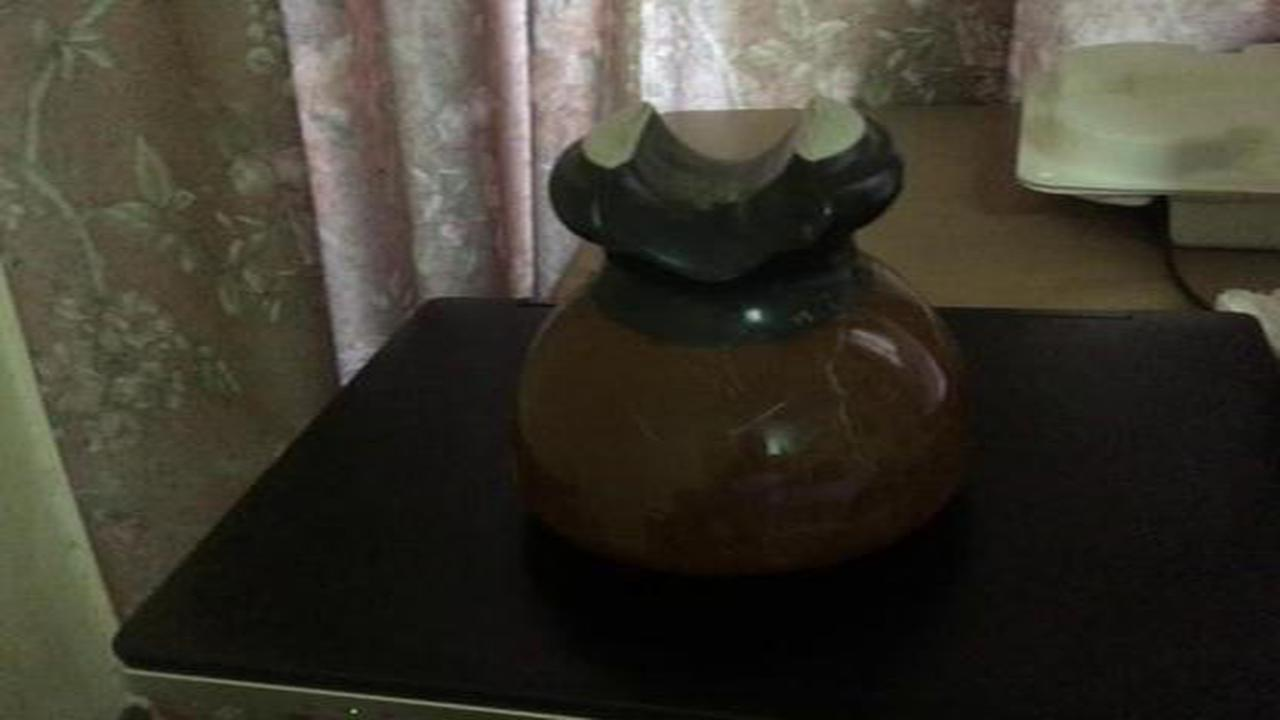insulator_pin: (484, 89, 997, 605)
